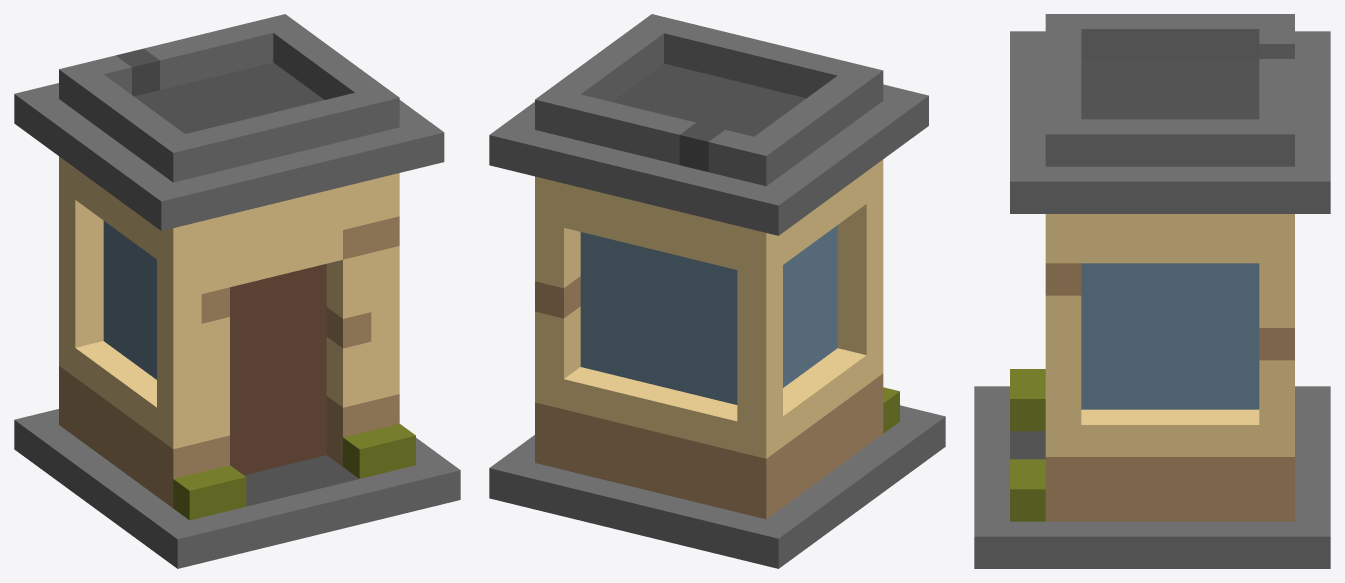
3 renders of one model, left to right at view 1: azimuth 30°, elevation 25°; view 2: azimuth 150°, elevation 25°; view 3: azimuth 270°, elevation 25°, orthographic. The views are drawn at different scales.
Visible parts, largest first — view 1: b_10_01; view 2: b_10_01; view 3: b_10_01.
Part boxes in pixels (x1,y1,x2,y2): b_10_01: (14,14,460,568); b_10_01: (489,14,945,568); b_10_01: (974,14,1330,568).
Bounding box in the file's own units: 10 × 13 × 10.
